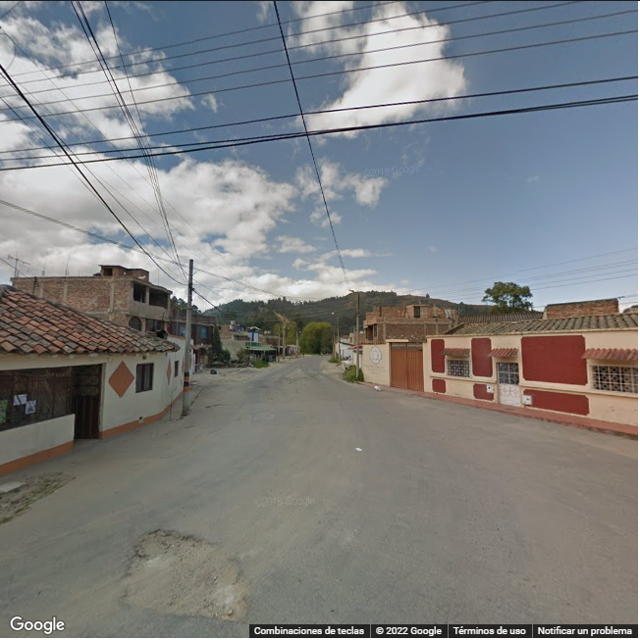D40: (123, 526, 251, 624)
